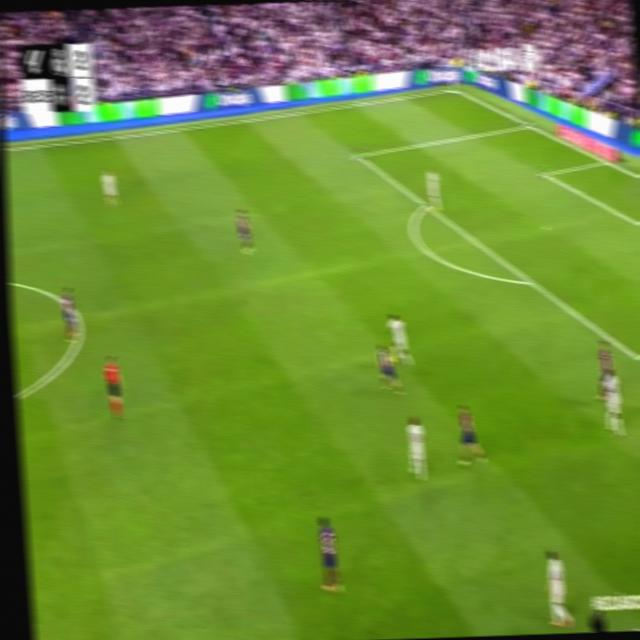bigarea_top_inner: (351, 146, 364, 163)
bigarea_top_outter: (521, 116, 533, 131)
bottom_arc_area_intersection: (523, 271, 537, 290)
corner: (448, 82, 460, 94)
smallarea_top_inner: (539, 164, 551, 180)
top_arc_area_intersection: (419, 195, 432, 212)
